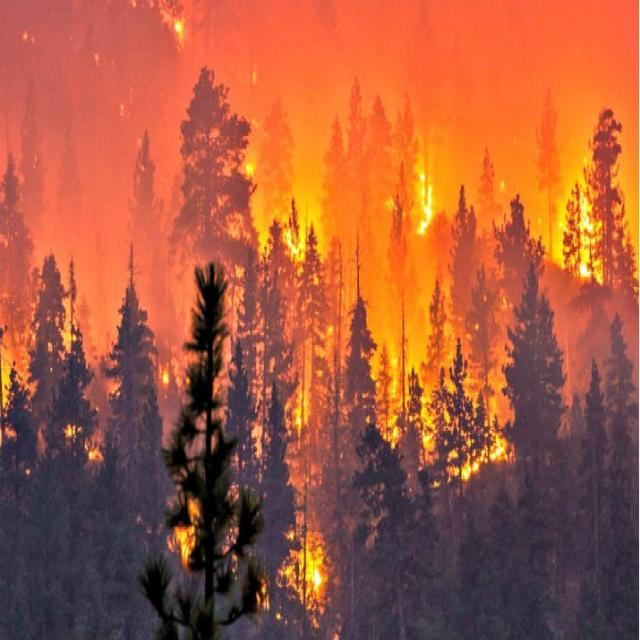Fire: (565, 174, 608, 286), (298, 543, 330, 604), (409, 170, 436, 242), (292, 202, 320, 264)
Smoke: (1, 0, 640, 410)
